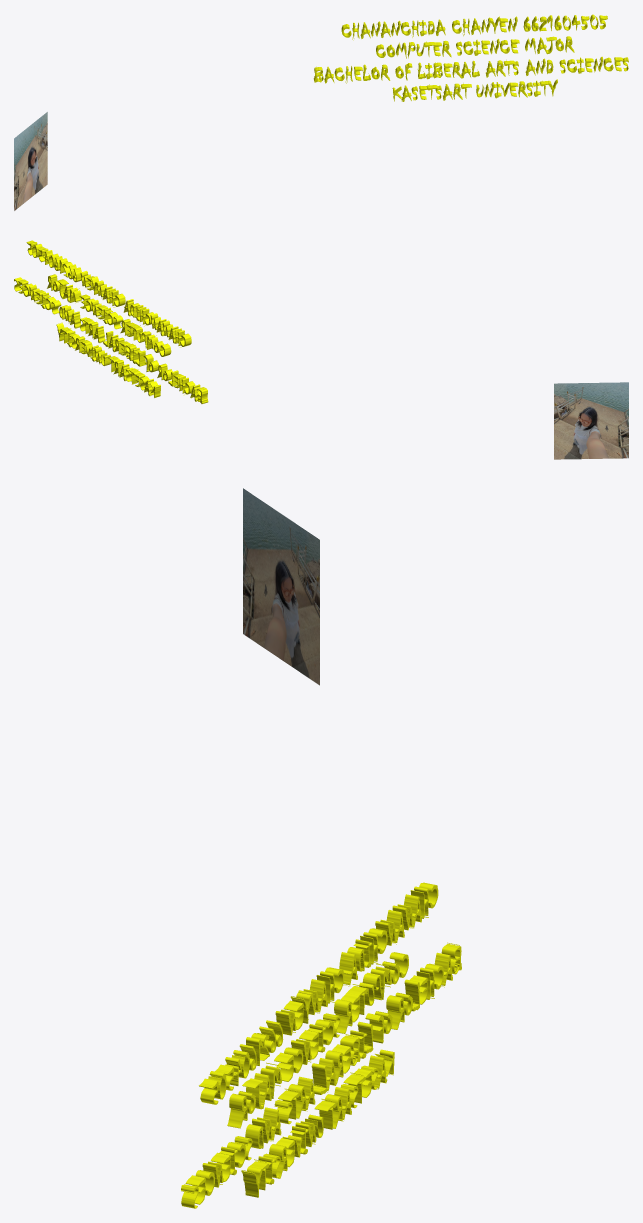
3 views of the same model, one above another, from view 1: azimuth 30°, elevation 25°; view 2: azimuth 150°, elevation 25°; view 3: azimuth 270°, elevation 25° (orthographic). The views are drawn at different scales.
Parts seen in each view (by area): view 1: Text, Empty.001; view 2: Text, Empty.001; view 3: Text, Empty.001.
Boxes of the visible parts, bbox=[...] form: Text: bbox=[313, 14, 628, 101]; Empty.001: bbox=[14, 112, 47, 210]; Text: bbox=[14, 240, 208, 403]; Empty.001: bbox=[554, 382, 628, 459]; Text: bbox=[181, 882, 461, 1208]; Empty.001: bbox=[243, 488, 319, 685].
Size of the model in its own units: 16.37 by 2.36 by 3.31.
2 materials, 1 textured.
